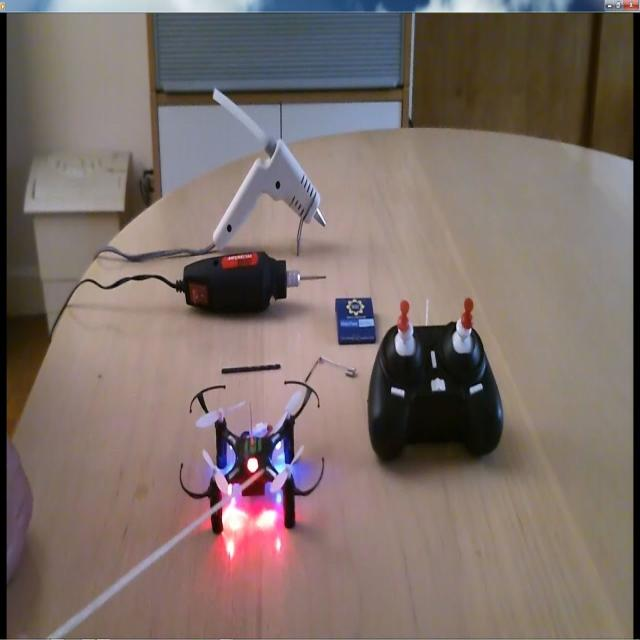drone: (173, 372, 330, 549)
